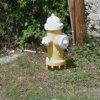Hydrant: (35, 10, 80, 76)
